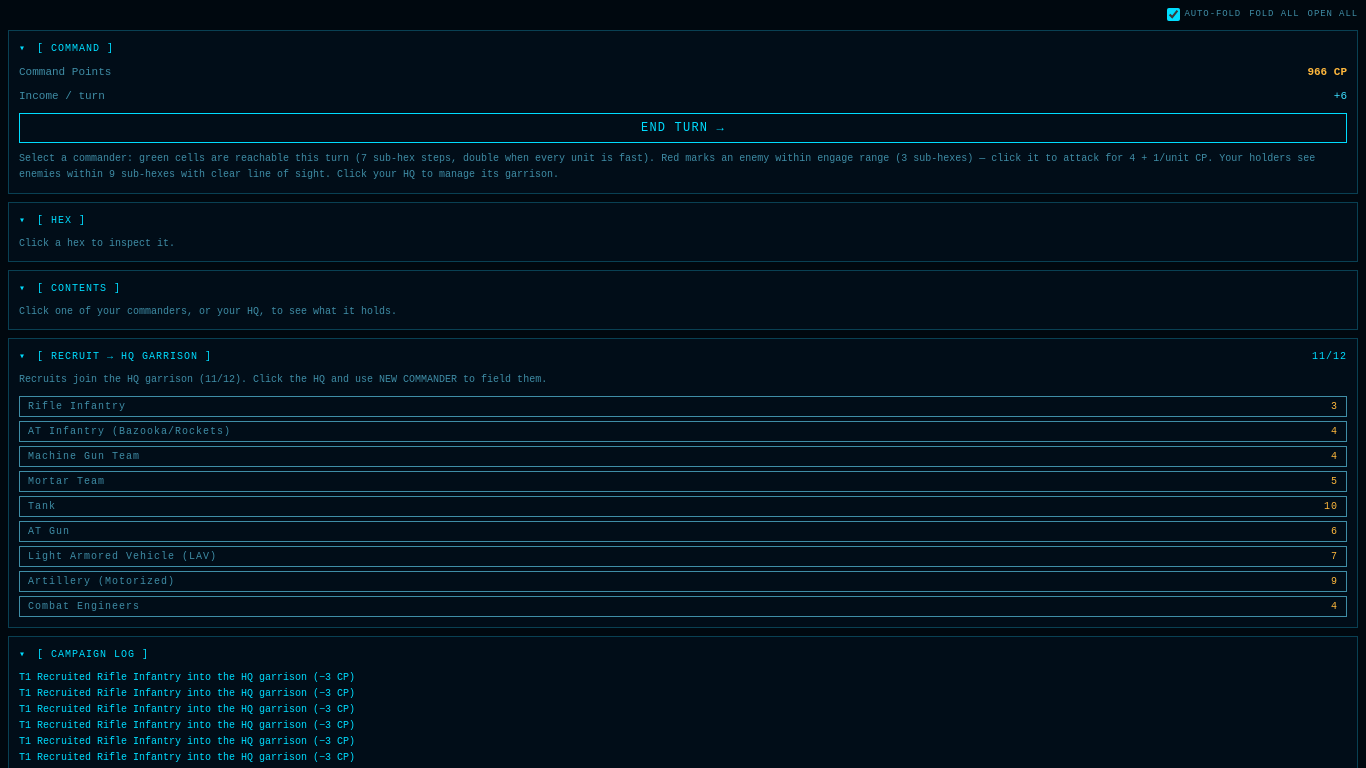
it: Recruit panel › says recruits join the HQ garrison, shows count/cap and disables at cap
Expected: the text "Recruits join the HQ garrison" is shown, [19,374,205,384]
Click the button "Rifle Infantry 3": (77, 406) [19,396,1347,416]
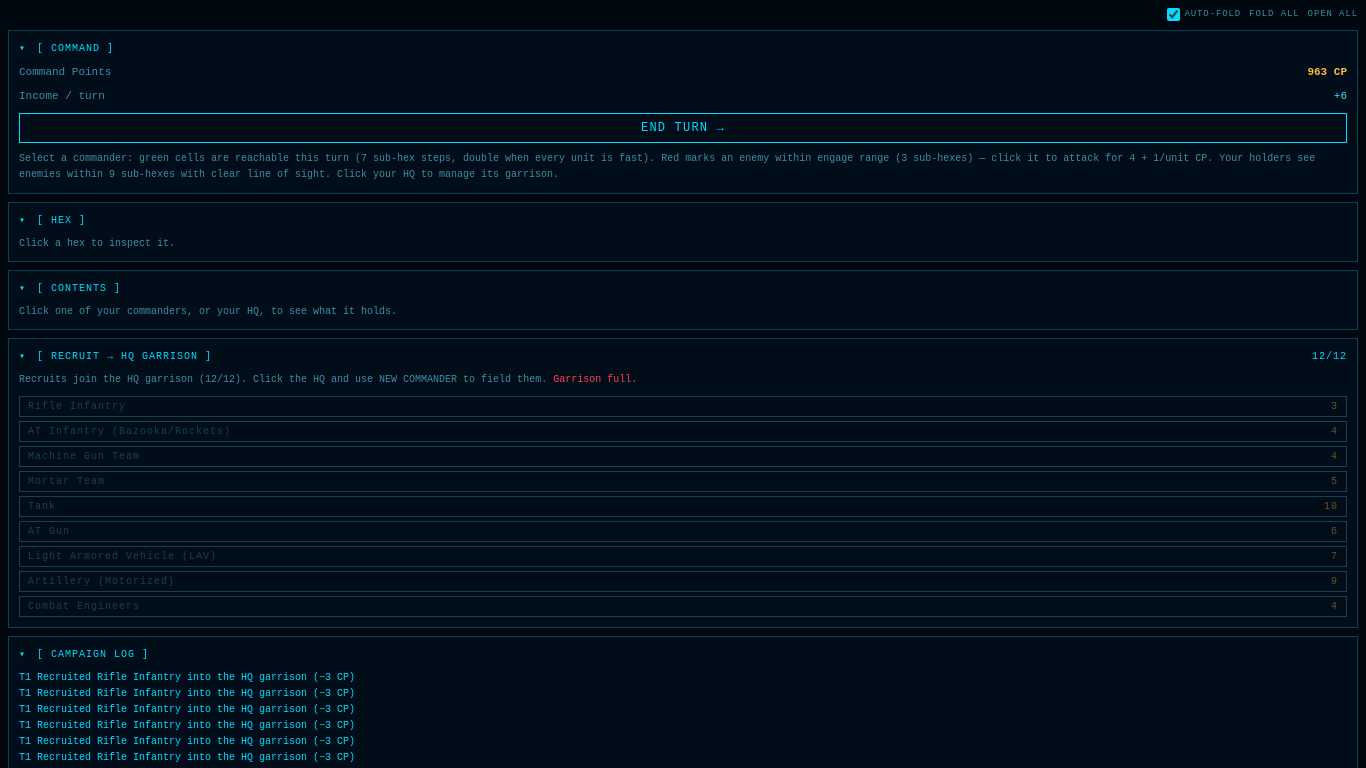
Expected: the text "Garrison full." is shown, [547,374,637,384]
Expected: the button "Rifle Infantry 3" is disabled, [19,396,1347,416]
